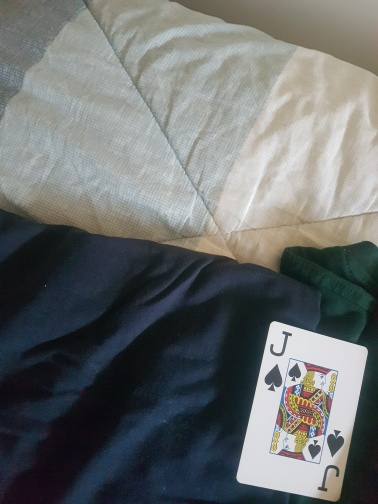jack: (237, 321, 368, 503)
